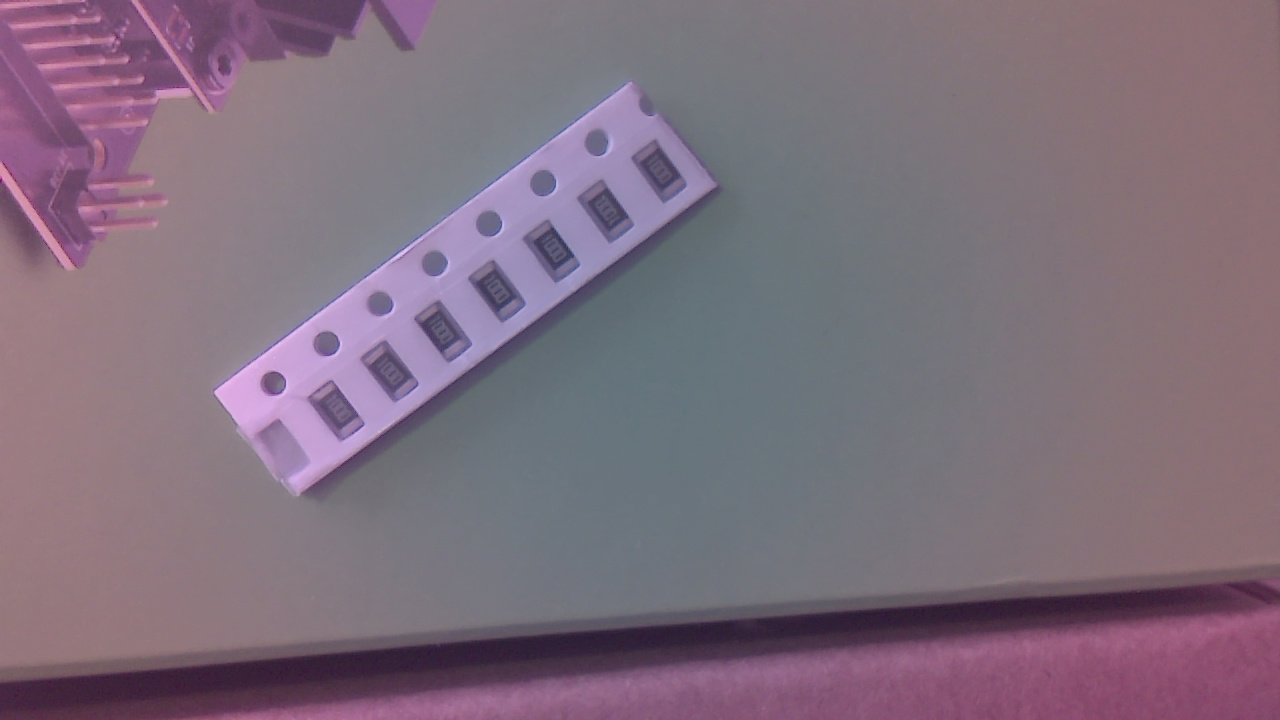Resistor: (364, 344, 425, 408), (311, 385, 371, 450), (472, 263, 532, 328), (634, 143, 694, 207), (581, 182, 638, 248), (527, 224, 585, 288), (419, 306, 475, 369)
